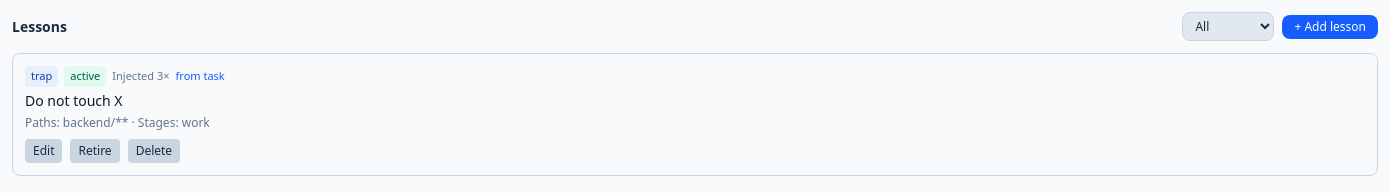
it: LessonsPanel › re-queries when the status filter changes
Expected: the text "Do not touch X" is shown, x1=25 y1=90 x2=122 y2=110
Step 1. Select "retired" in the dropdown named "Filter by status" → (1228, 26), box x1=1182 y1=12 x2=1274 y2=41
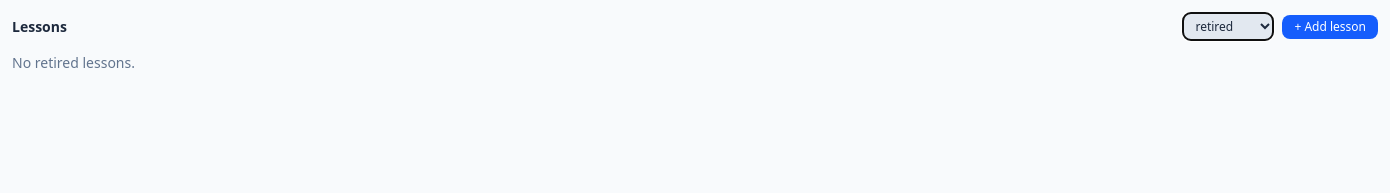
Now the text "No retired lessons." is shown, box x1=12 y1=53 x2=135 y2=72
